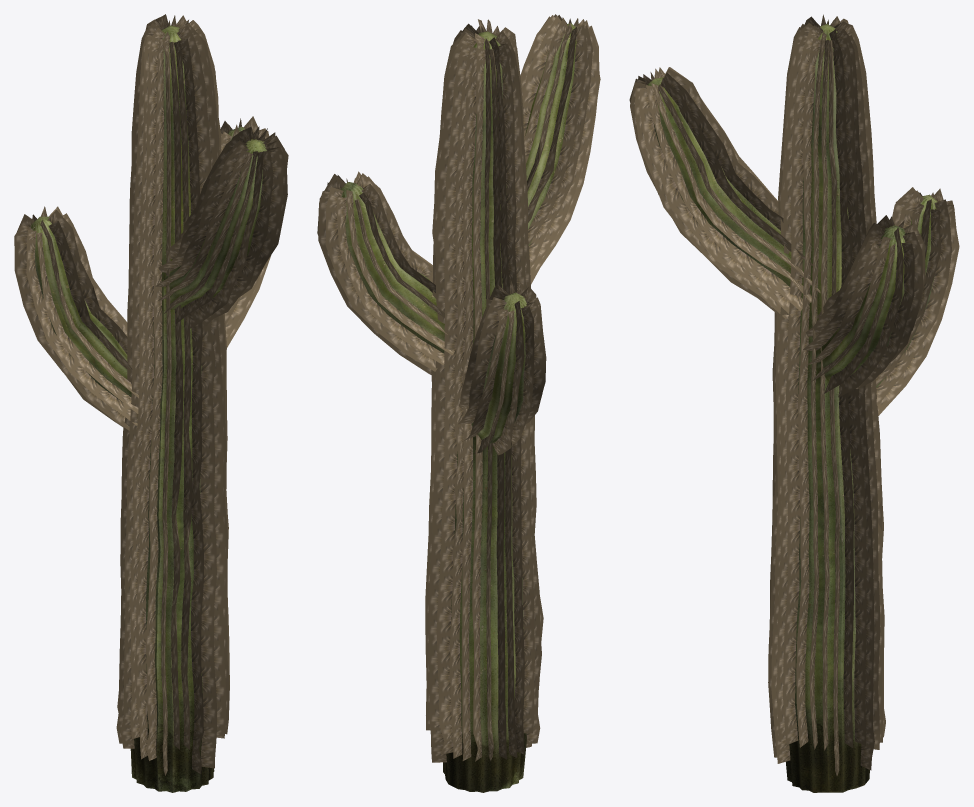
File: Cactus_2.FBX
The picture shows the model from 3 angles, left to right: view 1: azimuth 30°, elevation 25°; view 2: azimuth 150°, elevation 25°; view 3: azimuth 270°, elevation 25°; orthographic projection.
Parts seen in each view (by area): view 1: Cactus_2_LOD0; view 2: Cactus_2_LOD0; view 3: Cactus_2_LOD0.
Boxes of the visible parts, x1,y1,x2,y2 form: Cactus_2_LOD0: (14,14,288,792); Cactus_2_LOD0: (317,14,600,792); Cactus_2_LOD0: (629,14,959,792).
Size of what is drawn, in the model's own units: 9.36 by 28.72 by 11.33.
